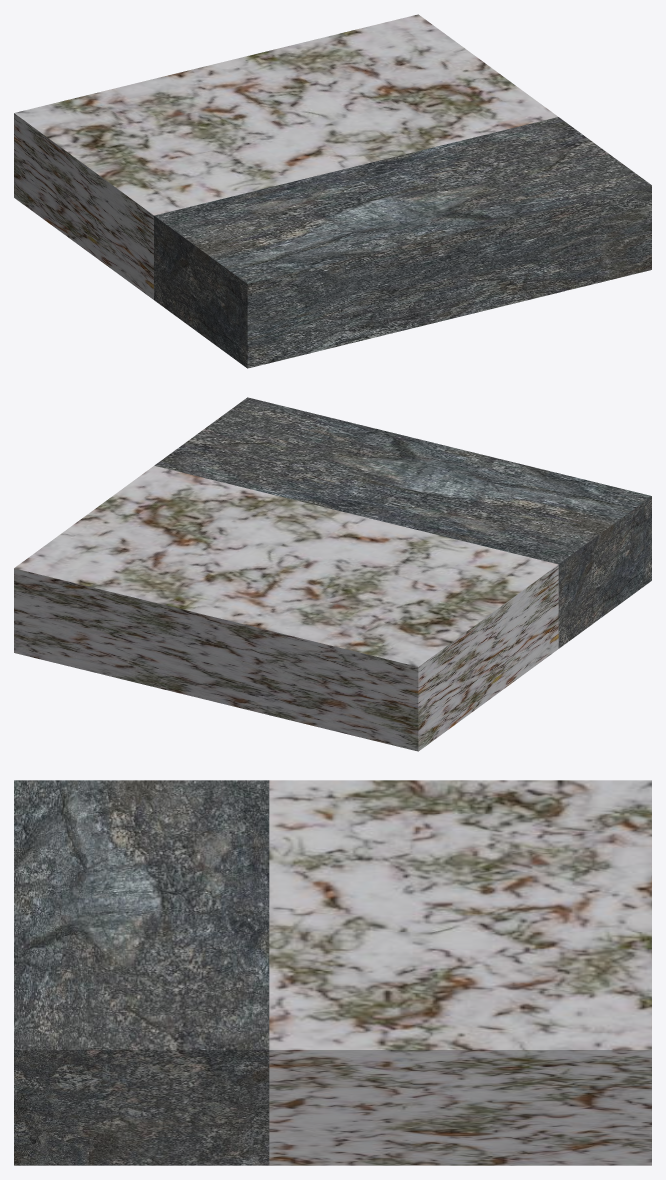
The model's file is Edge-Side.glb.
3 views of the same model, one above another, from view 1: azimuth 30°, elevation 25°; view 2: azimuth 150°, elevation 25°; view 3: azimuth 270°, elevation 25° (orthographic). The views are drawn at different scales.
Visible parts, largest first — view 1: Cube.009, Edge-Side; view 2: Edge-Side, Cube.009; view 3: Edge-Side, Cube.009.
Boxes of the visible parts, x1,y1,x2,y2 form: Cube.009: [154, 117, 651, 368]; Edge-Side: [14, 14, 557, 299]; Edge-Side: [14, 465, 558, 751]; Cube.009: [154, 397, 651, 648]; Edge-Side: [269, 780, 651, 1165]; Cube.009: [14, 780, 269, 1165].
Bounding box in the file's own units: 1 × 0.2 × 1.
2 materials, 2 textured.
